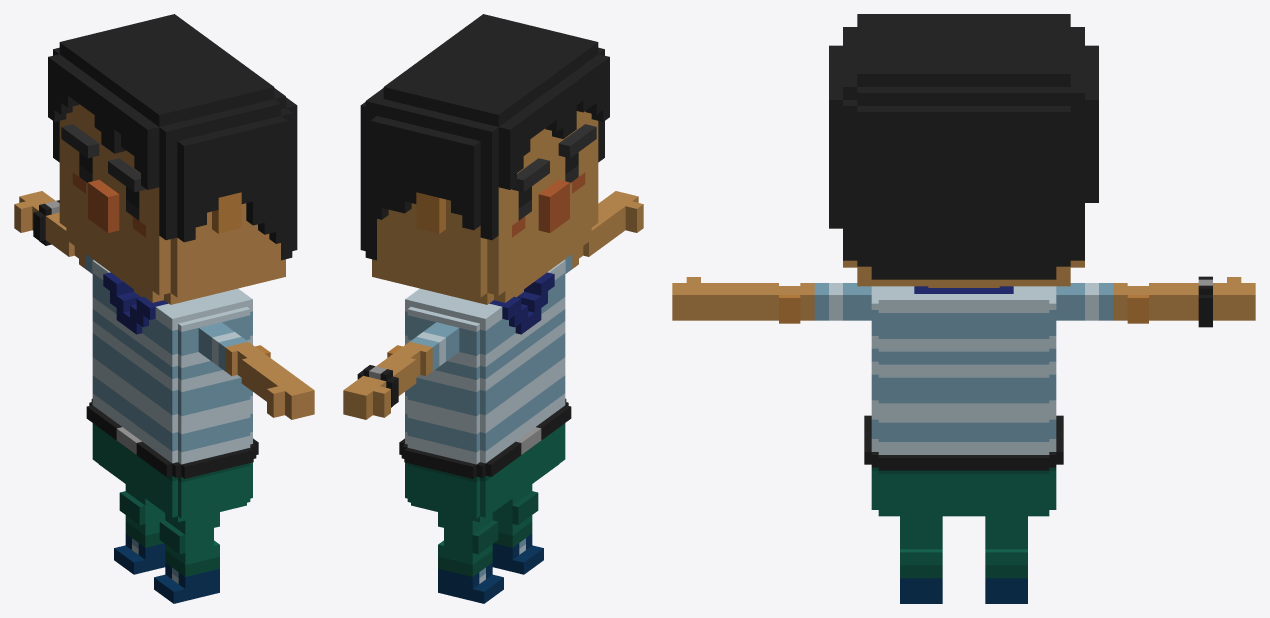
File: Pers_Principal_Original.fbx
The picture shows the model from 3 angles, left to right: view 1: azimuth 30°, elevation 25°; view 2: azimuth 150°, elevation 25°; view 3: azimuth 270°, elevation 25°; orthographic projection. The views are drawn at different scales.
Visible parts, largest first — view 1: Mesh; view 2: Mesh; view 3: Mesh.
Boxes of the visible parts, x1,y1,x2,y2 form: Mesh: (14, 14, 314, 603); Mesh: (343, 14, 643, 603); Mesh: (672, 14, 1255, 603).
Size of the model in its own units: 65 by 212 by 205.
1 material, 1 textured.
